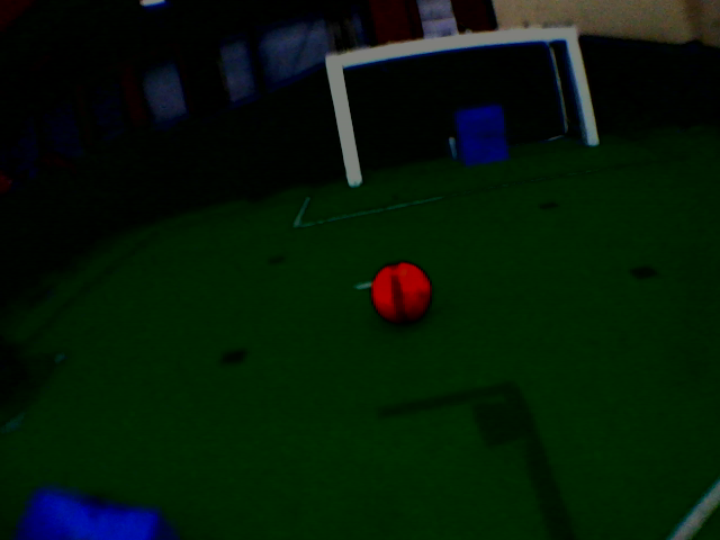bola: (361, 257, 437, 329)
